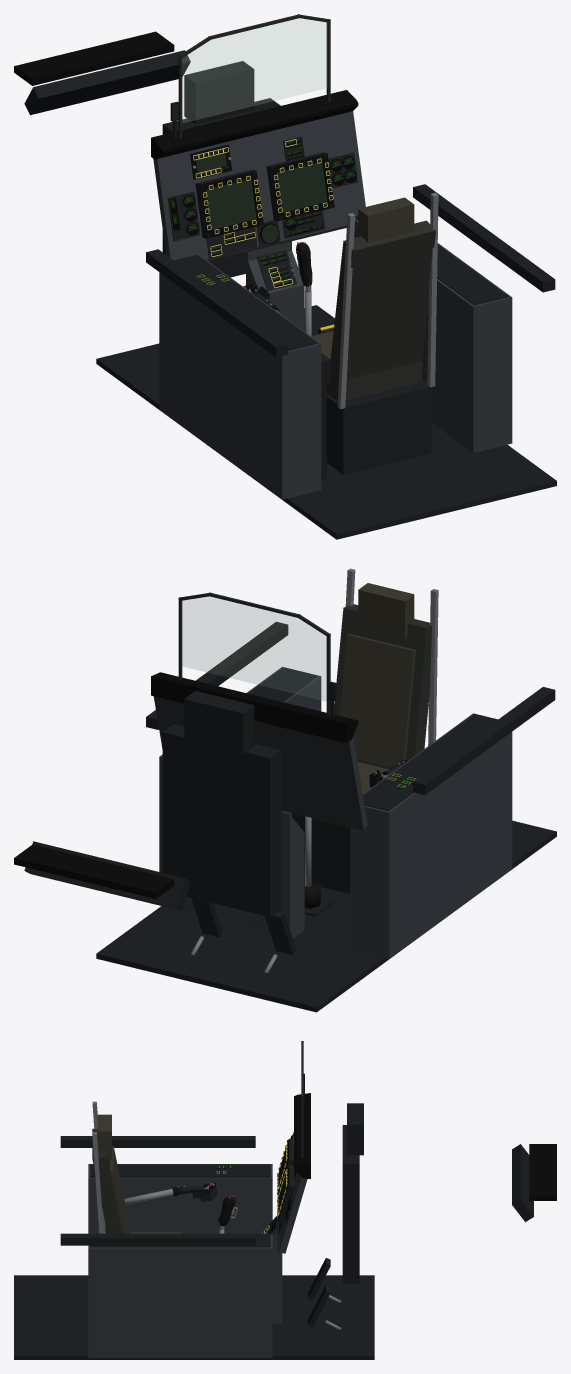
File: cockpit_ah64.glb
3 views of the same model, one above another, from view 1: azimuth 30°, elevation 25°; view 2: azimuth 150°, elevation 25°; view 3: azimuth 270°, elevation 25° (orthographic). The views are drawn at different scales.
Parts seen in each view (by area): view 1: panel_grey.003, dark.106, panel_grey.004, seat_95, hud_glass_69, panel_grey, dark.109, black, dark.119, black.077, dark.118, dark.115 (+13 smaller); view 2: panel_grey.003, dark.117, dark.106, hud_glass_69, panel_grey, cushion_96, black, seat_95, black.077, dark.118, dark.115, dark.104 (+10 smaller); view 3: panel_grey.004, dark.106, panel_grey.003, dark.116, dark.117, dark.104, dark.115, black.077, black, dark.119, seat_95, dark.118 (+6 smaller).
Boxes of the visible parts, x1,y1,x2,y2 form: panel_grey.003: (159,254,321,499); dark.106: (96,305,556,539); panel_grey.004: (354,215,512,452); seat_95: (330,220,435,380); hud_glass_69: (182,18,327,122); panel_grey: (153,111,365,259); dark.109: (326,380,431,474); black: (151,90,358,159); dark.119: (24,50,190,115); black.077: (14,31,174,85); dark.118: (184,61,254,124); dark.115: (146,249,288,357); panel_grey.003: (350,713,512,958); dark.117: (162,724,281,916); dark.106: (96,820,556,1012); hud_glass_69: (182,596,326,700); panel_grey: (153,696,367,830); cushion_96: (339,634,415,767); black: (151,672,358,743); seat_95: (334,604,431,769); black.077: (14,844,174,898); dark.118: (184,691,254,754); dark.115: (413,687,555,794); dark.104: (363,714,497,811); panel_grey.004: (88,1234,272,1357); dark.106: (14,1275,374,1359); panel_grey.003: (88,1164,272,1233); dark.116: (60,1233,255,1245); dark.117: (342,1125,359,1283); dark.104: (90,1164,270,1177); dark.115: (60,1136,255,1147); black.077: (529,1144,556,1200); black: (294,1093,310,1178); dark.119: (512,1144,533,1221); seat_95: (92,1128,122,1233); dark.118: (347,1103,363,1155).
Size of the model in its own units: 1.14 by 1.35 by 2.56.
27 materials, 6 textured.
